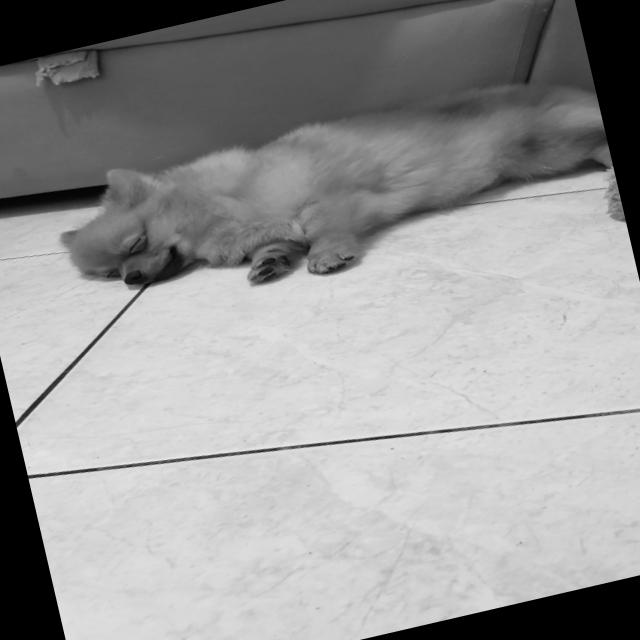laying down: (43, 55, 622, 332)
